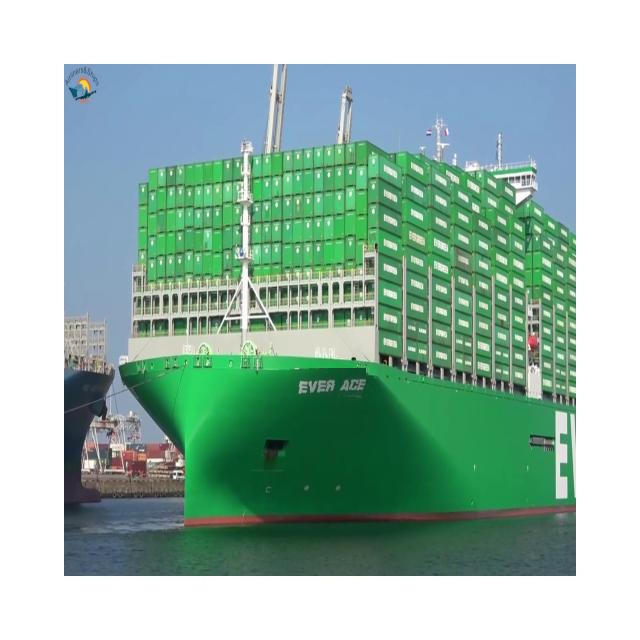OCR: (284, 368, 366, 406)
